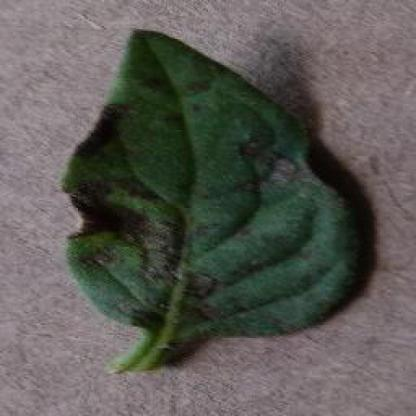Tomato_Blight: (61, 30, 361, 340)
